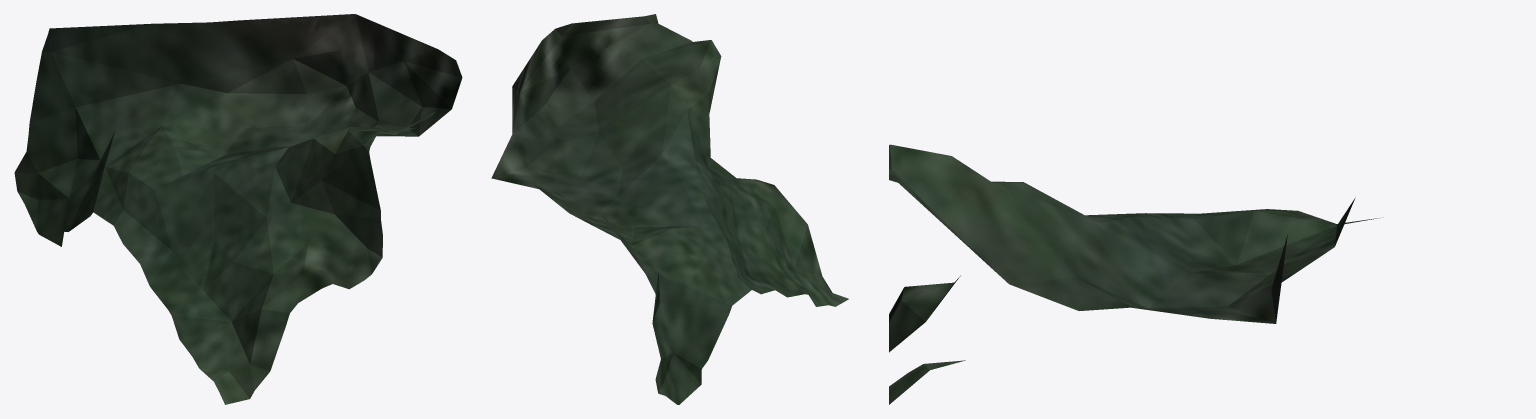
3 renders of one model, left to right at view 1: azimuth 30°, elevation 25°; view 2: azimuth 150°, elevation 25°; view 3: azimuth 270°, elevation 25°, orthographic. The views are drawn at different scales.
Size of the model in its own units: 1.64 by 1.43 by 2.2.
Materials: 1 (1 with a texture image).
